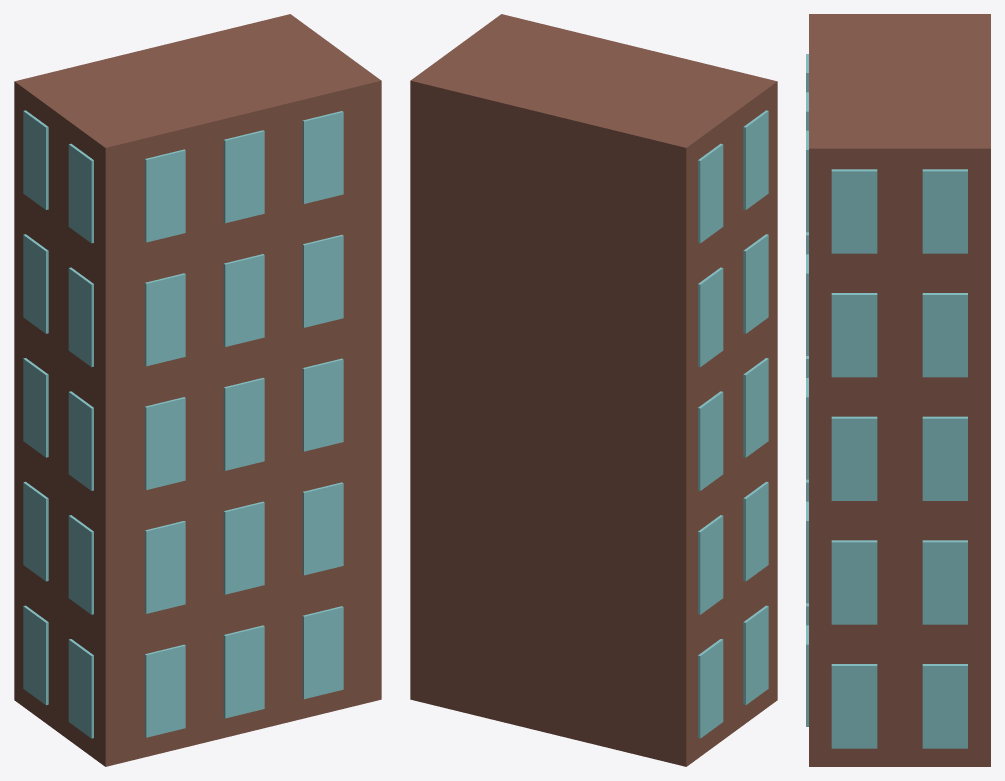
The model's file is Building_010_City_008.fbx.
The picture shows the model from 3 angles, left to right: view 1: azimuth 30°, elevation 25°; view 2: azimuth 150°, elevation 25°; view 3: azimuth 270°, elevation 25°; orthographic projection.
Parts seen in each view (by area): view 1: pCube37; view 2: pCube37; view 3: pCube37.
Part boxes in pixels (x1,y1,x2,y2): pCube37: (14,14,381,766); pCube37: (410,14,777,766); pCube37: (806,14,990,766).
Bounding box in the file's own units: 718 × 1500 × 406.
